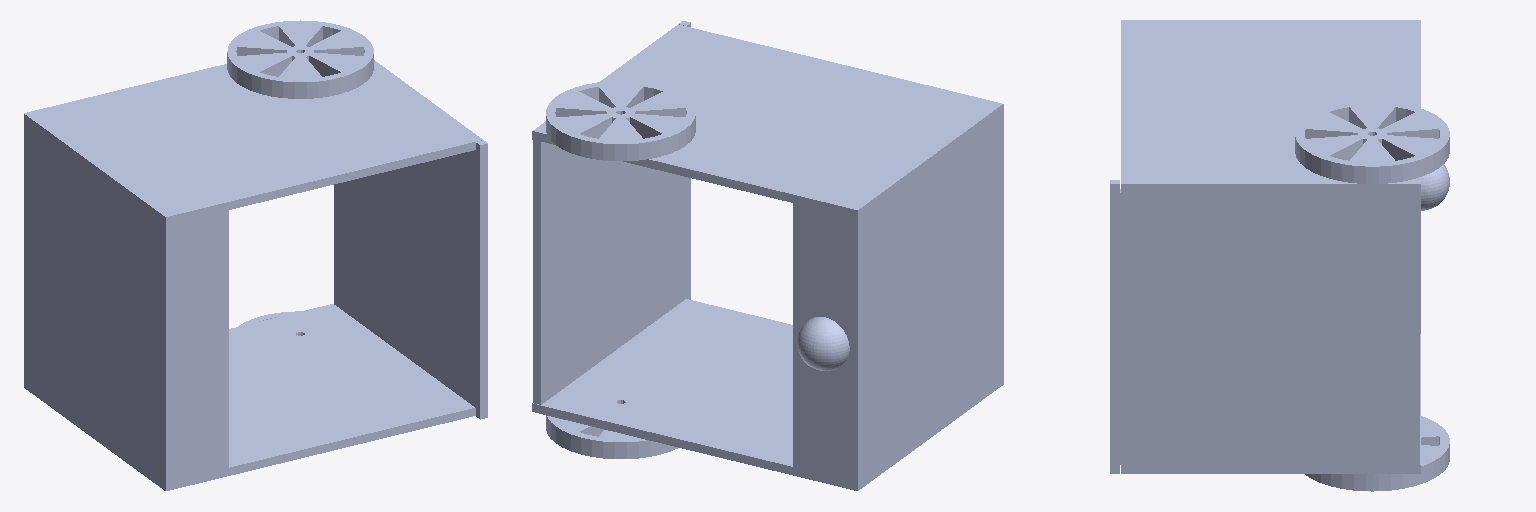
robot.urdf — box_robot:
<?xml version="1.0" encoding="utf-8"?>
<!-- This URDF was automatically created by SolidWorks to URDF Exporter! Originally created by [author] ([email redacted]) 
     Commit Version: 1.6.0-1-g15f4949  Build Version: 1.6.7594.29634
     For more information, please see http://wiki.ros.org/sw_urdf_exporter -->
<robot
  name="box_robot">
  <link
    name="base_link">
    <inertial>
      <origin
        xyz="-0.12079 1.3843E-17 0.15582"
        rpy="0 0 0" />
      <mass
        value="5" />
      <inertia
        ixx="0.20526"
        ixy="-4.7032E-18"
        ixz="0.00027898"
        iyy="0.16522"
        iyz="1.1184E-17"
        izz="0.21001" />
    </inertial>
    <visual>
      <origin
        xyz="0 0 0"
        rpy="0 0 0" />
      <geometry>
        <mesh
          filename="package://box_robot/meshes/base_link.STL" />
      </geometry>
      <material
        name="">
        <color
          rgba="0.79216 0.81961 0.93333 1" />
      </material>
    </visual>
    <collision>
      <origin
        xyz="0 0 0"
        rpy="0 0 0" />
      <geometry>
        <mesh
          filename="package://box_robot/meshes/base_link.STL" />
      </geometry>
    </collision>
  </link>
  <link
    name="castor_link">
    <inertial>
      <origin
        xyz="-0.16 -5.5511E-17 -1.9722E-31"
        rpy="0 0 0" />
      <mass
        value="1" />
      <inertia
        ixx="4.0715E-05"
        ixy="0"
        ixz="3.089E-51"
        iyy="4.0715E-05"
        iyz="0"
        izz="4.0715E-05" />
    </inertial>
    <visual>
      <origin
        xyz="0 0 0"
        rpy="0 0 0" />
      <geometry>
        <mesh
          filename="package://box_robot/meshes/castor_link.STL" />
      </geometry>
      <material
        name="">
        <color
          rgba="0.79216 0.81961 0.93333 1" />
      </material>
    </visual>
    <collision>
      <origin
        xyz="0 0 0"
        rpy="0 0 0" />
      <geometry>
        <mesh
          filename="package://box_robot/meshes/castor_link.STL" />
      </geometry>
    </collision>
  </link>
  <joint
    name="castor_joint"
    type="fixed">
    <origin
      xyz="0 0 0"
      rpy="1.5708 0 0" />
    <parent
      link="base_link" />
    <child
      link="castor_link" />
    <axis
      xyz="0 0 0" />
    <dynamics
      damping="0"
      friction="0" />
  </joint>
  <link
    name="right_link">
    <inertial>
      <origin
        xyz="0 6.9389E-18 0.01"
        rpy="0 0 0" />
      <mass
        value="3" />
      <inertia
        ixx="0.00052803"
        ixy="-4.5495E-21"
        ixz="9.1166E-21"
        iyy="0.00052803"
        iyz="-3.6002E-19"
        izz="0.0010359" />
    </inertial>
    <visual>
      <origin
        xyz="0 0 0"
        rpy="0 0 0" />
      <geometry>
        <mesh
          filename="package://box_robot/meshes/right_link.STL" />
      </geometry>
      <material
        name="">
        <color
          rgba="0.79216 0.81961 0.93333 1" />
      </material>
    </visual>
    <collision>
      <origin
        xyz="0 0 0"
        rpy="0 0 0" />
      <geometry>
        <mesh
          filename="package://box_robot/meshes/right_link.STL" />
      </geometry>
    </collision>
  </link>
  <joint
    name="right_joint"
    type="continuous">
    <origin
      xyz="0.12 -0.05 -0.165"
      rpy="-3.1416 0 0" />
    <parent
      link="base_link" />
    <child
      link="right_link" />
    <axis
      xyz="0 0 -1" />
    <dynamics
      damping="0"
      friction="0" />
  </joint>
  <link
    name="left_link">
    <inertial>
      <origin
        xyz="0 6.9389E-18 -0.01"
        rpy="0 0 0" />
      <mass
        value="3" />
      <inertia
        ixx="0.00052803"
        ixy="7.6514E-21"
        ixz="3.4246E-21"
        iyy="0.00052803"
        iyz="-3.5965E-19"
        izz="0.0010359" />
    </inertial>
    <visual>
      <origin
        xyz="0 0 0"
        rpy="0 0 0" />
      <geometry>
        <mesh
          filename="package://box_robot/meshes/left_link.STL" />
      </geometry>
      <material
        name="">
        <color
          rgba="0.79216 0.81961 0.93333 1" />
      </material>
    </visual>
    <collision>
      <origin
        xyz="0 0 0"
        rpy="0 0 0" />
      <geometry>
        <mesh
          filename="package://box_robot/meshes/left_link.STL" />
      </geometry>
    </collision>
  </link>
  <joint
    name="left_joint"
    type="continuous">
    <origin
      xyz="0.12 -0.05 0.165"
      rpy="-3.1416 0 0" />
    <parent
      link="base_link" />
    <child
      link="left_link" />
    <axis
      xyz="0 0 -1" />
    <dynamics
      damping="0"
      friction="0" />
  </joint>
  <link
    name="slider_link">
    <inertial>
      <origin
        xyz="0.155 0.16031 0.005"
        rpy="0 0 0" />
      <mass
        value="0.5" />
      <inertia
        ixx="0.0085213"
        ixy="-6.844E-19"
        ixz="1.0535E-18"
        iyy="0.0080038"
        iyz="1.1008E-20"
        izz="0.016509" />
    </inertial>
    <visual>
      <origin
        xyz="0 0 0"
        rpy="0 0 0" />
      <geometry>
        <mesh
          filename="package://box_robot/meshes/slider_link.STL" />
      </geometry>
      <material
        name="">
        <color
          rgba="0.79216 0.81961 0.93333 1" />
      </material>
    </visual>
    <collision>
      <origin
        xyz="0 0 0"
        rpy="0 0 0" />
      <geometry>
        <mesh
          filename="package://box_robot/meshes/slider_link.STL" />
      </geometry>
    </collision>
  </link>
  <joint
    name="slider_joint"
    type="prismatic">
    <origin
      xyz="0.2 -0.00092584 0.155"
      rpy="3.1416 1.5708 0" />
    <parent
      link="base_link" />
    <child
      link="slider_link" />
    <axis
      xyz="0 1 0" />
    <limit
      lower="0"
      upper="0.3"
      effort="1000"
      velocity="0.5" />
    <dynamics
      damping="0"
      friction="0" />
  </joint>

  <gazebo>
    <plugin filename="libgazebo_ros_diff_drive.so" name="differential_drive_controller">
      <alwaysOn>true</alwaysOn>
      <updateRate>20</updateRate>
      <leftJoint>left_joint</leftJoint>
      <rightJoint>right_joint</rightJoint>
      <wheelSeparation>0.310</wheelSeparation>
      <wheelDiameter>0.16</wheelDiameter>
      <torque>5</torque>
      <commandTopic>cmd_vel</commandTopic>
      <odometryTopic>odom</odometryTopic>
      <odometryFrame>odom</odometryFrame>
      <robotBaseFrame>base_link</robotBaseFrame>
    </plugin>
  </gazebo>

</robot>

--- Facts derived from the render (not from the file) ---
Views: 3 orthographic renders of the robot side by side, from view 1: azimuth 30°, elevation 25°; view 2: azimuth 150°, elevation 25°; view 3: azimuth 270°, elevation 25°.
Robot: box_robot — 5 links, 4 joints (2 continuous, 1 prismatic, 1 fixed); root link base_link; default pose: all joints at 0.
Links seen in each view (by area): view 1: base_link, slider_link, left_link; view 2: base_link, slider_link, left_link, right_link, castor_link; view 3: slider_link, base_link, left_link, right_link, castor_link.
Boxes of the visible links, left/top/right/bottom form: base_link: left=24, top=60, right=482, bottom=490; slider_link: left=334, top=140, right=487, bottom=419; left_link: left=227, top=20, right=373, bottom=98; base_link: left=532, top=24, right=1003, bottom=490; slider_link: left=533, top=21, right=690, bottom=404; left_link: left=546, top=81, right=695, bottom=160; right_link: left=546, top=415, right=677, bottom=458; castor_link: left=797, top=317, right=849, bottom=370; slider_link: left=1110, top=180, right=1419, bottom=473; base_link: left=1121, top=20, right=1420, bottom=473; left_link: left=1295, top=101, right=1449, bottom=183; right_link: left=1305, top=416, right=1449, bottom=491; castor_link: left=1421, top=164, right=1449, bottom=210.
Size in the robot's own frame: 0.4 by 0.3509 by 0.37 metres.
5 mesh visuals loaded from 5 distinct referenced files (5 binary STL).